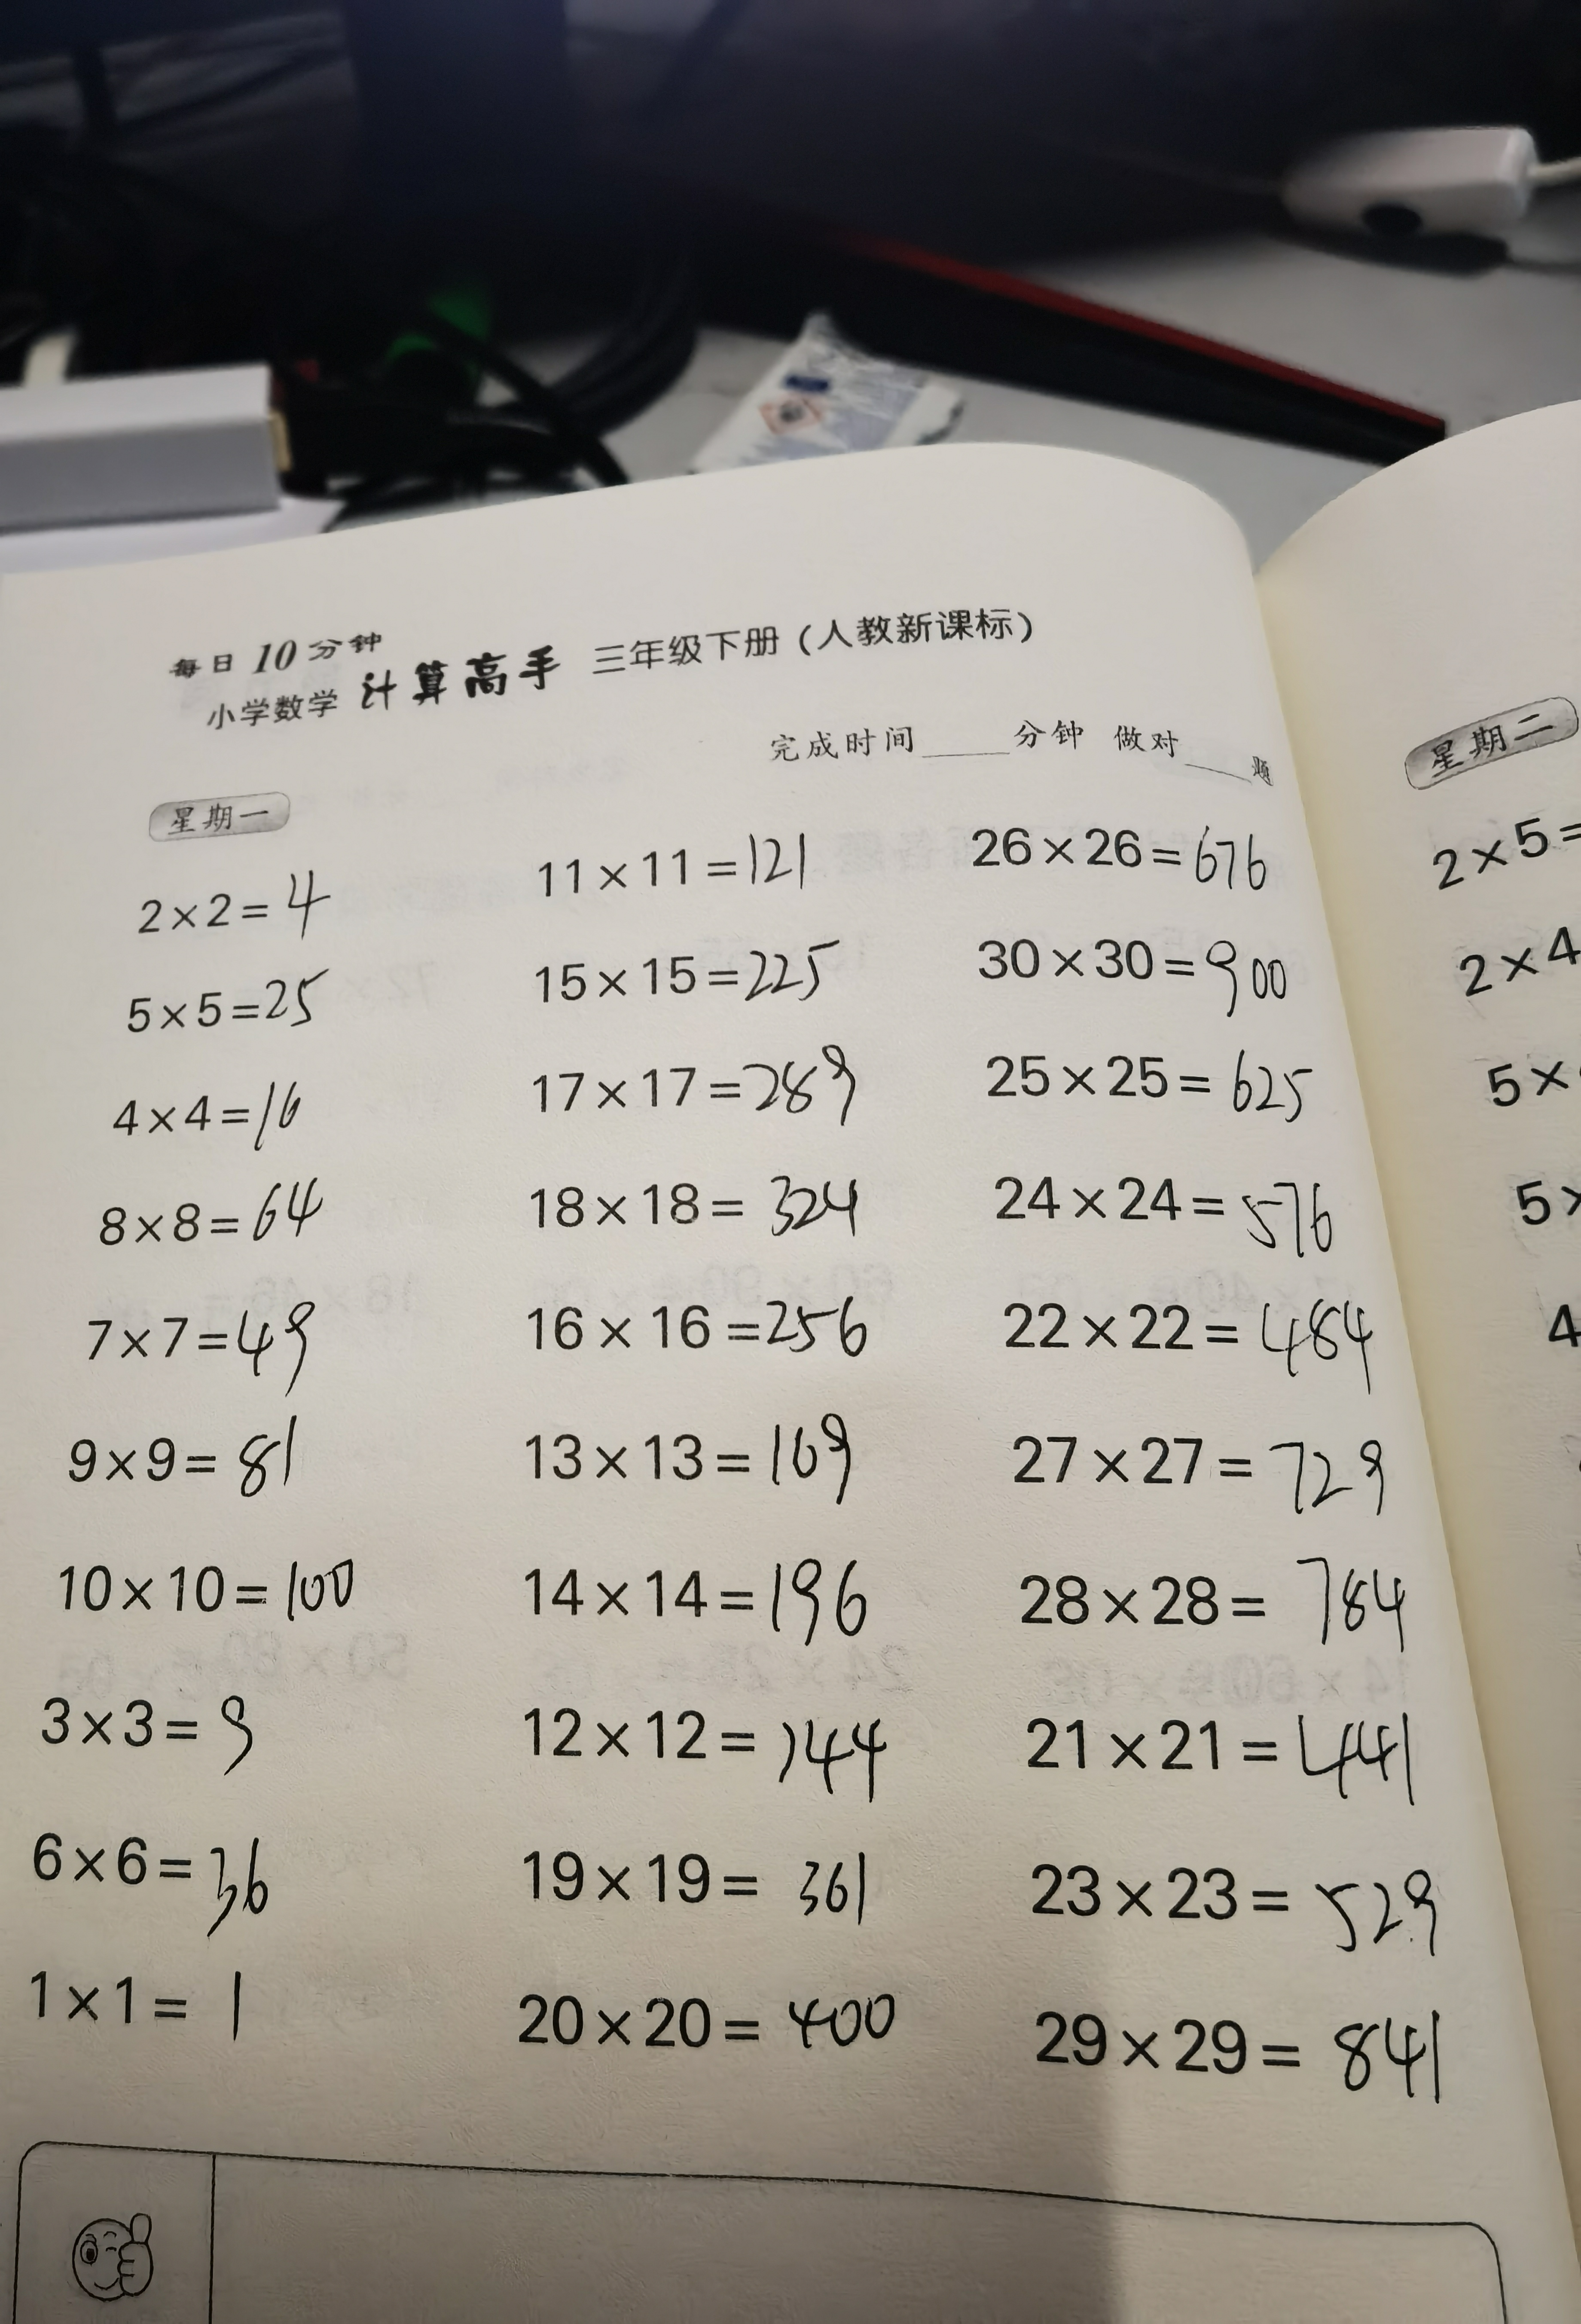equation: (498, 1960, 928, 2110), (1023, 1830, 1468, 1957), (1020, 1987, 1463, 2110), (508, 1683, 907, 1814), (512, 1826, 916, 1945), (521, 1398, 882, 1528), (1018, 1696, 1452, 1803), (997, 1553, 1427, 1661), (969, 1165, 1382, 1271), (503, 1553, 907, 1661), (999, 1417, 1417, 1518), (30, 1530, 383, 1645), (955, 914, 1320, 1016), (476, 1285, 880, 1376), (978, 1031, 1366, 1124), (985, 1290, 1387, 1380), (512, 1034, 884, 1128), (521, 1165, 889, 1256), (963, 794, 1290, 896), (48, 1408, 341, 1514), (23, 1821, 311, 1925), (69, 1279, 344, 1387), (18, 1950, 268, 2059), (517, 933, 852, 1011), (35, 1675, 305, 1770), (94, 856, 362, 944), (522, 826, 842, 893), (74, 1189, 360, 1263), (88, 965, 346, 1046), (81, 1076, 353, 1143)
